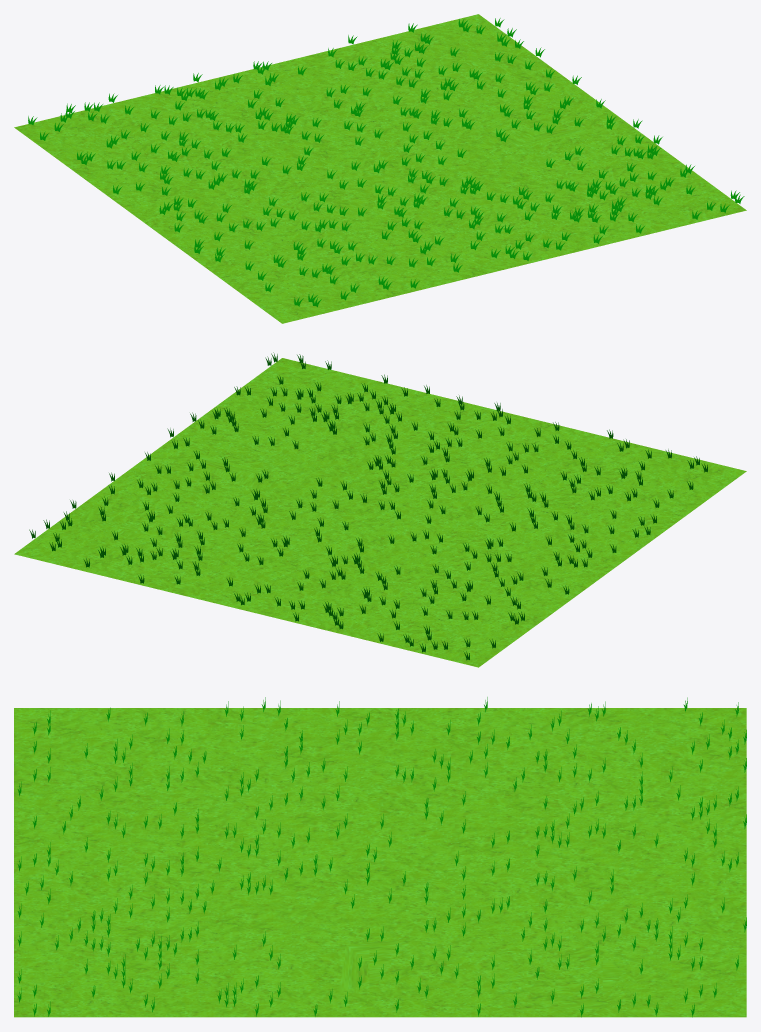
The model's file is glassField.obj.
The picture shows the model from 3 angles, top to bottom: view 1: azimuth 30°, elevation 25°; view 2: azimuth 150°, elevation 25°; view 3: azimuth 270°, elevation 25°; orthographic projection. The views are drawn at different scales.
Parts seen in each view (by area): view 1: 平面.003, 平面.001; view 2: 平面.003, 平面.001; view 3: 平面.003, 平面.001.
Part boxes in pixels (box(x1,y1,x2,y2)): 平面.003: box(14, 14, 746, 323); 平面.001: box(28, 18, 744, 307); 平面.003: box(14, 358, 746, 667); 平面.001: box(29, 352, 707, 660); 平面.003: box(14, 708, 746, 1017); 平面.001: box(17, 697, 746, 1017).
Bounding box in the file's own units: 74.5 × 6.88 × 73.67.
Materials: 2 (1 with a texture image).
